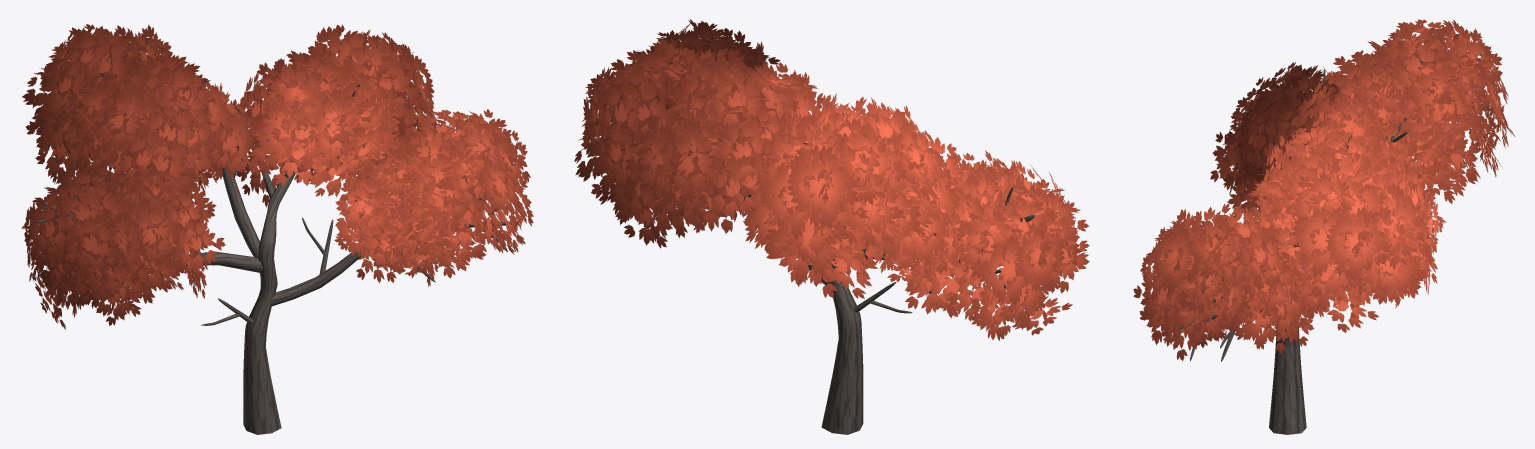
Rendered from MapleTree_3.glb.
3 renders of one model, left to right at view 1: azimuth 30°, elevation 25°; view 2: azimuth 150°, elevation 25°; view 3: azimuth 270°, elevation 25°, orthographic. The views are drawn at different scales.
Parts seen in each view (by area): view 1: MapleTree_3; view 2: MapleTree_3; view 3: MapleTree_3.
Part boxes in pixels (bbox=[...]): MapleTree_3: bbox=[21, 24, 533, 434]; MapleTree_3: bbox=[574, 19, 1089, 434]; MapleTree_3: bbox=[1133, 19, 1514, 434].
Size of the model in its own units: 8.98 by 6.99 by 6.61.
2 materials, 2 textured.
